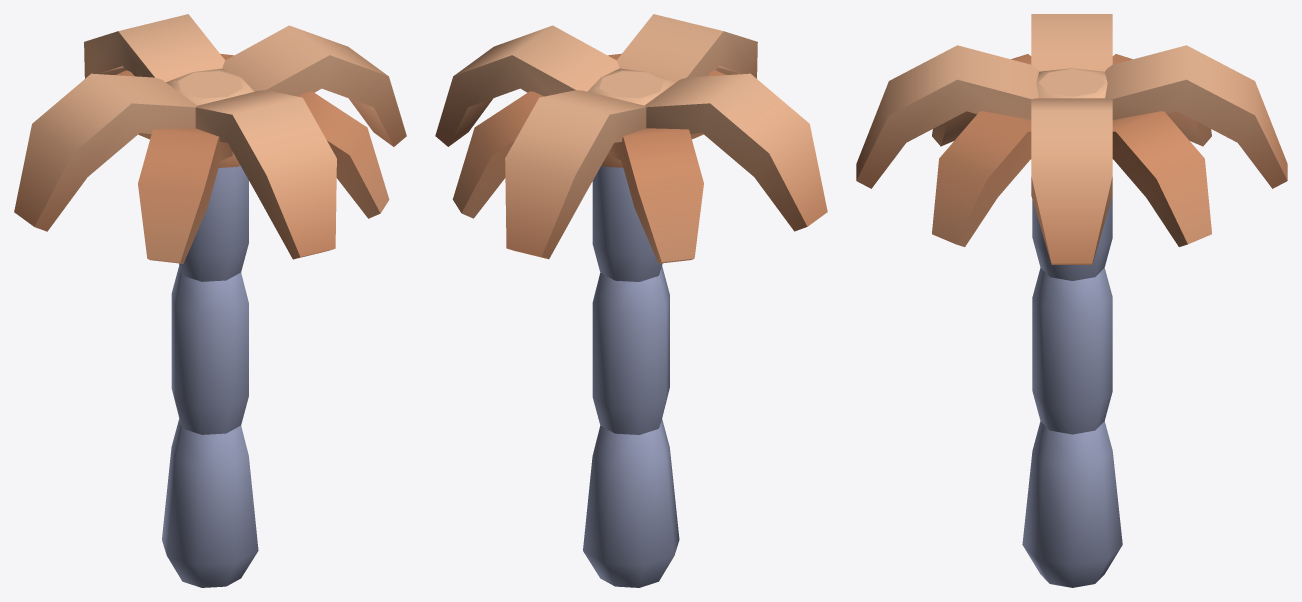
Rendered from palm.glb.
The picture shows the model from 3 angles, left to right: view 1: azimuth 30°, elevation 25°; view 2: azimuth 150°, elevation 25°; view 3: azimuth 270°, elevation 25°; orthographic projection.
Visible parts, largest first — view 1: palm-detailed-straight; view 2: palm-detailed-straight; view 3: palm-detailed-straight.
Boxes of the visible parts, bbox=[...] form: palm-detailed-straight: bbox=[14, 14, 406, 587]; palm-detailed-straight: bbox=[435, 14, 827, 587]; palm-detailed-straight: bbox=[856, 14, 1287, 587].
Bounding box in the file's own units: 3.22 × 4.21 × 3.22.
1 material, 1 textured.
